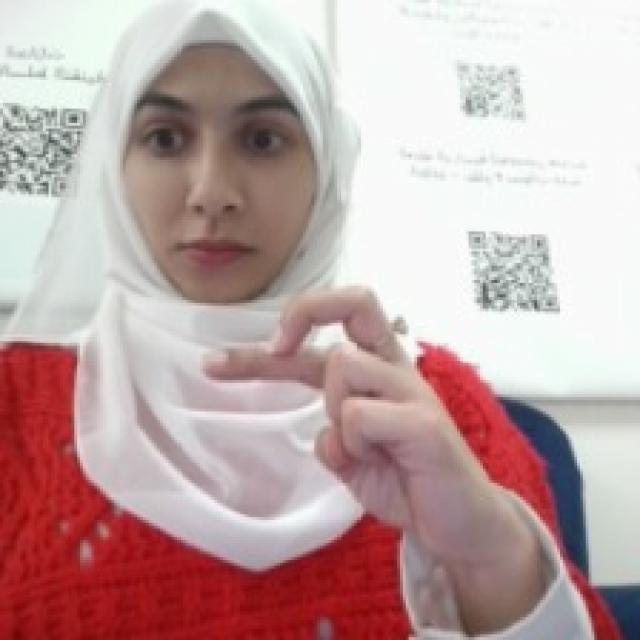sunday: (180, 269, 471, 514)
